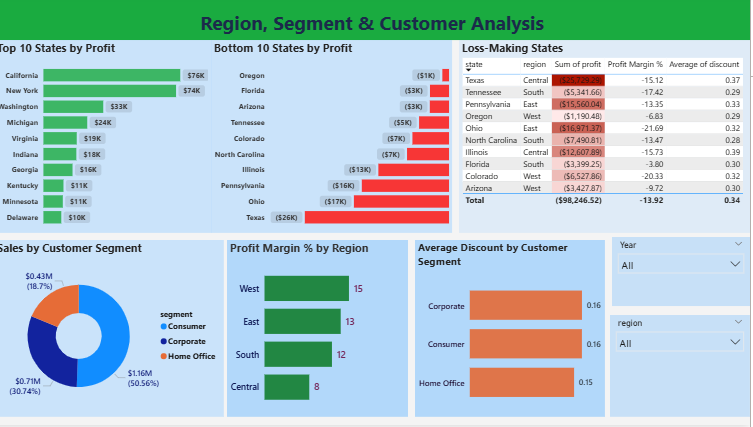

The dashboard page shown, as its layout file describes it:
{"tool":"powerbi","page":{"name":"Region, Segment & Customer View","canvas":[1280,720],"ordinal":2},"visuals":[{"type":"textbox","box":[10.1,0,1269.9,73.9],"z":0},{"type":"clusteredBarChart","title":"Top 10 States by Profit","fields":{"Category":["Superstore_cleaned.state"],"Y":["Sum(Superstore_cleaned.profit)"]},"box":[10.1,73.9,364.5,324.2],"z":1},{"type":"clusteredBarChart","title":"Bottom 10 States by Profit","fields":{"Category":["Superstore_cleaned.state"],"Y":["Sum(Superstore_cleaned.profit)"]},"box":[374.6,73.9,404.8,324.2],"z":2},{"type":"donutChart","title":"Sales by Customer Segment","fields":{"Category":["Superstore_cleaned.segment"],"Y":["Sum(Superstore_cleaned.sales)"]},"box":[10.1,409.9,386.4,297.3],"z":3},{"type":"clusteredBarChart","title":"Profit Margin % by Region","fields":{"Category":["Superstore_cleaned.region"],"Y":["Superstore_cleaned.Profit Margin %"]},"box":[401.5,409.9,304,297.3],"z":4},{"type":"clusteredBarChart","title":"Average Discount by Customer Segment","fields":{"Category":["Superstore_cleaned.segment"],"Y":["Avg(Superstore_cleaned.discount)"]},"box":[717.3,409.9,319.2,297.3],"z":5},{"type":"tableEx","title":"Loss-Making States","fields":{"Values":["Superstore_cleaned.state","Superstore_cleaned.region","Sum(Superstore_cleaned.profit)","Superstore_cleaned.Profit Margin %","Avg(Superstore_cleaned.discount)"]},"box":[791.2,73.9,488.8,324.2],"z":6},{"type":"slicer","fields":{"Values":["Superstore_cleaned.order_date.Variation.Date Hierarchy.Year"]},"box":[1048.2,404.8,231.8,115.9],"z":7},{"type":"slicer","fields":{"Values":["Superstore_cleaned.region"]},"box":[1044.8,535.9,235.2,171.3],"z":8}]}

Visuals, with their boxes in screenshot pixels (x1, y1, x2, y2), scaled from the page's 1280x720 canvas onto the 753x427 screenshot:
textbox: box(6, 0, 752, 44)
"Top 10 States by Profit" clusteredBarChart: box(6, 44, 220, 236)
"Bottom 10 States by Profit" clusteredBarChart: box(220, 44, 459, 236)
"Sales by Customer Segment" donutChart: box(6, 243, 233, 419)
"Profit Margin % by Region" clusteredBarChart: box(236, 243, 415, 419)
"Average Discount by Customer Segment" clusteredBarChart: box(422, 243, 610, 419)
"Loss-Making States" tableEx: box(465, 44, 752, 236)
slicer - Superstore_cleaned.order_date.Variation.Date Hierarchy.Year: box(617, 240, 752, 309)
slicer - Superstore_cleaned.region: box(615, 318, 752, 419)
